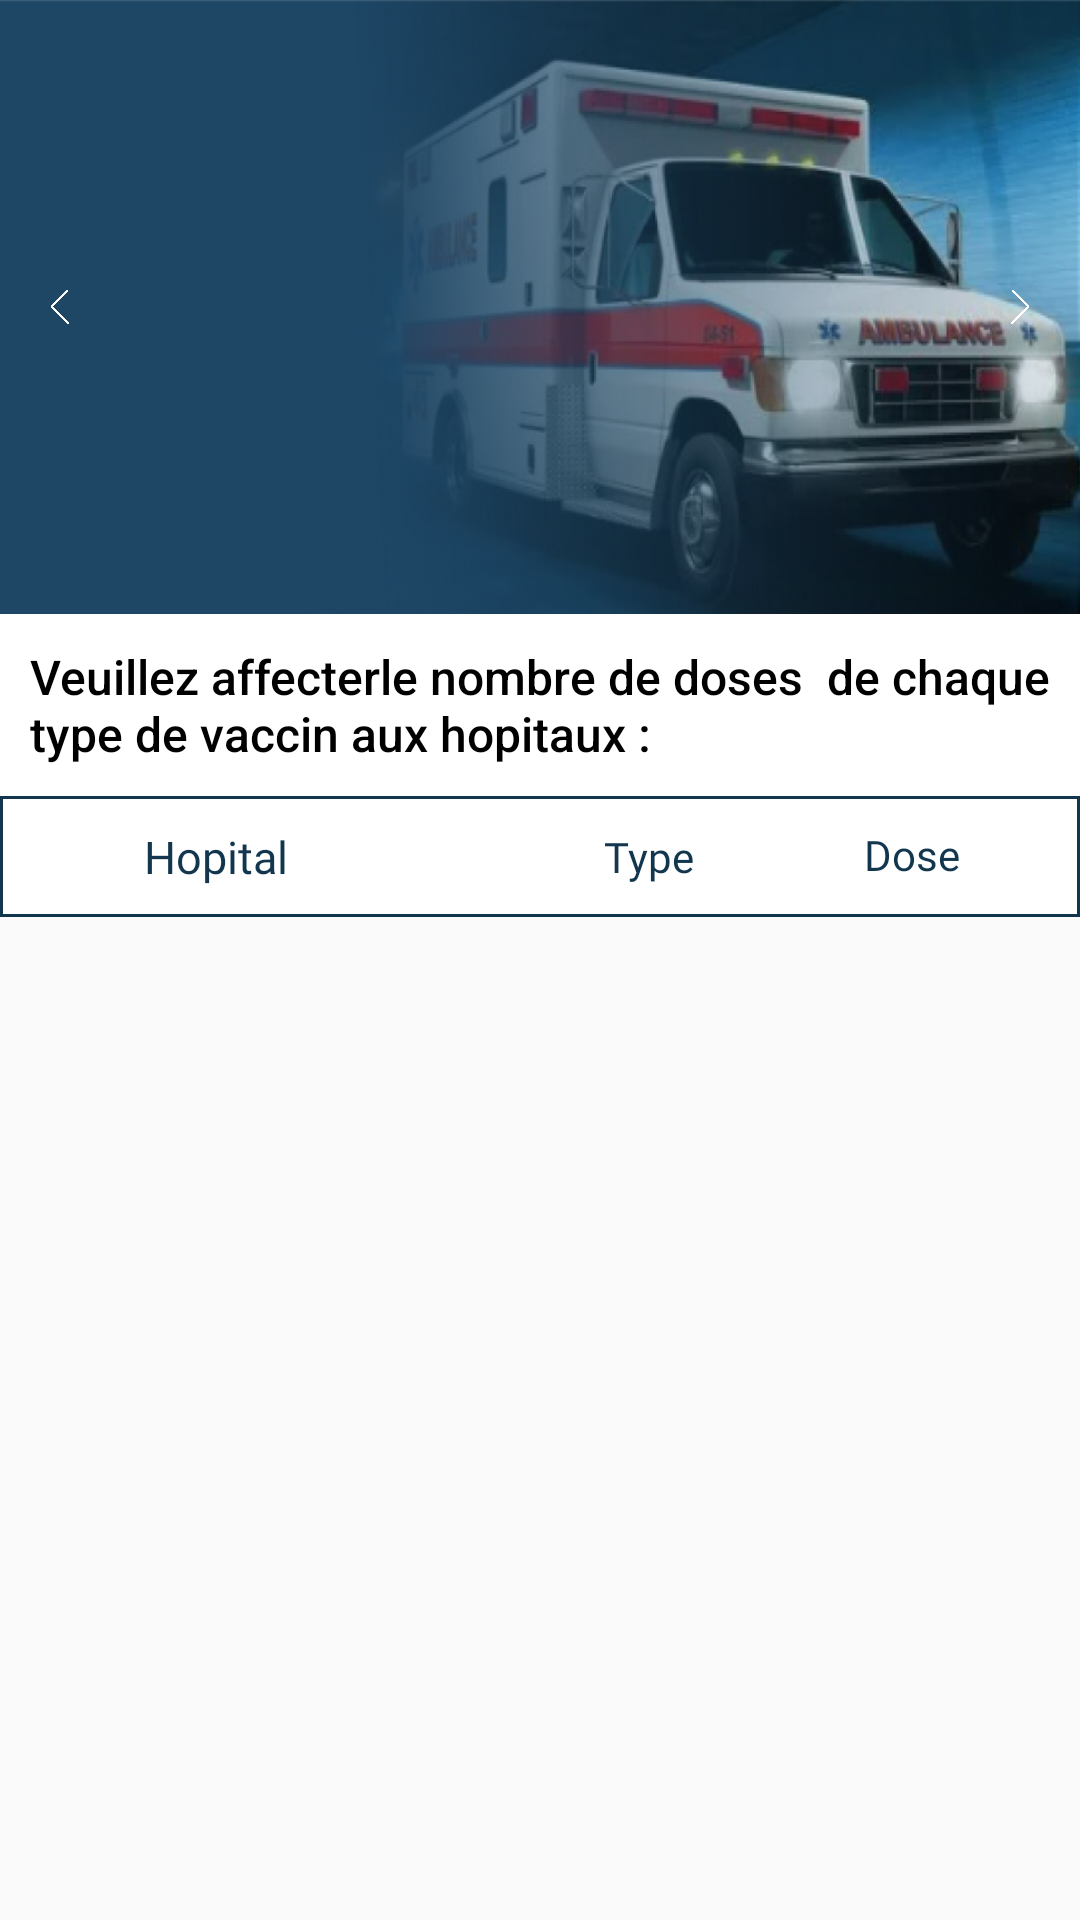

Icons on this 1080×1920 Android screen, each with its box as [x1,y1,x2,y2]:
leftarrow: [51,290,69,324]
